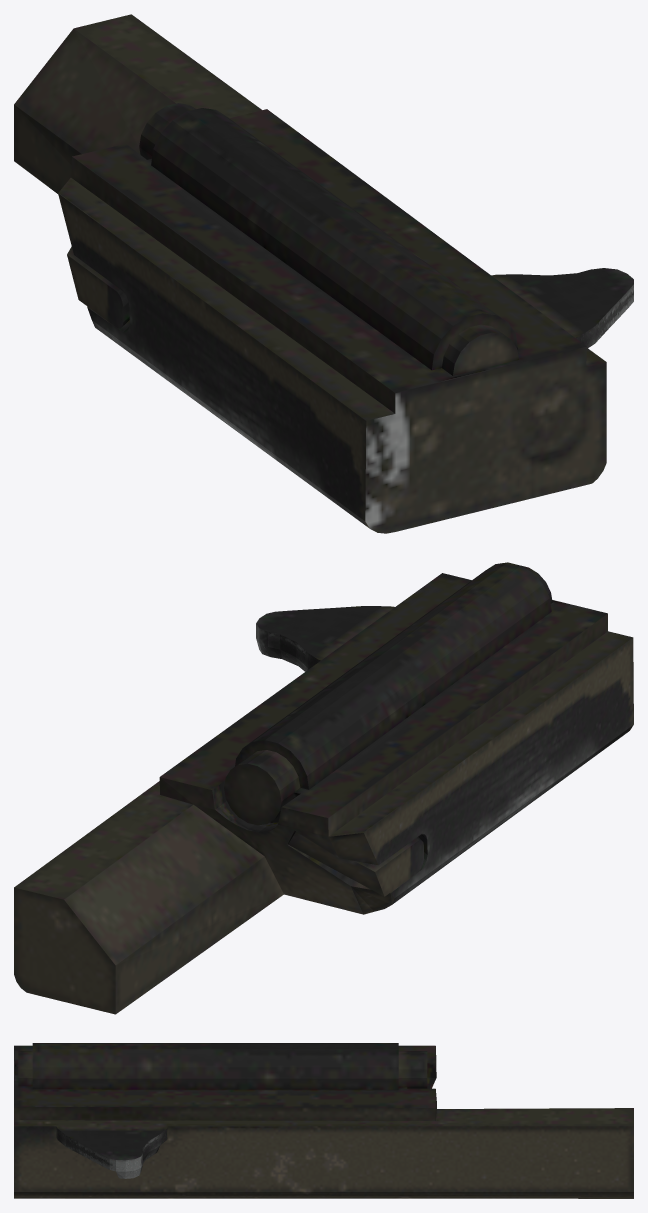
3 views of the same model, one above another, from view 1: azimuth 30°, elevation 25°; view 2: azimuth 150°, elevation 25°; view 3: azimuth 270°, elevation 25° (orthographic). The views are drawn at different scales.
Parts seen in each view (by area): view 1: TW_57f3c6bd24597738e730fa2f_PZ_Import; view 2: TW_57f3c6bd24597738e730fa2f_PZ_Import; view 3: TW_57f3c6bd24597738e730fa2f_PZ_Import.
Boxes of the visible parts, x1,y1,x2,y2 form: TW_57f3c6bd24597738e730fa2f_PZ_Import: (14,14,633,533); TW_57f3c6bd24597738e730fa2f_PZ_Import: (14,562,633,1014); TW_57f3c6bd24597738e730fa2f_PZ_Import: (14,1043,633,1198).
Bounding box in the file's own units: 0.0268 × 0.0636 × 0.0136.
Materials: 1 (1 with a texture image).
